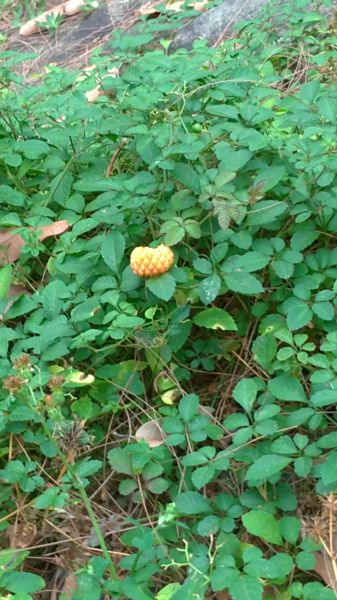eggs: (122, 237, 179, 281)
